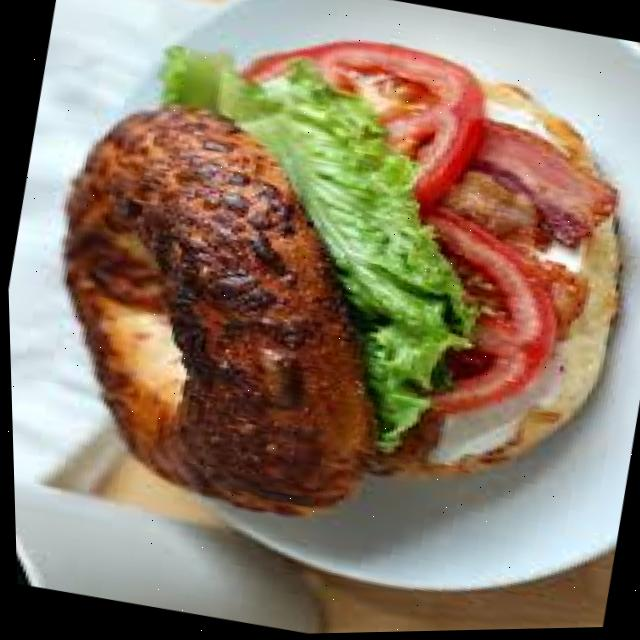Bagel: (65, 107, 371, 516)
